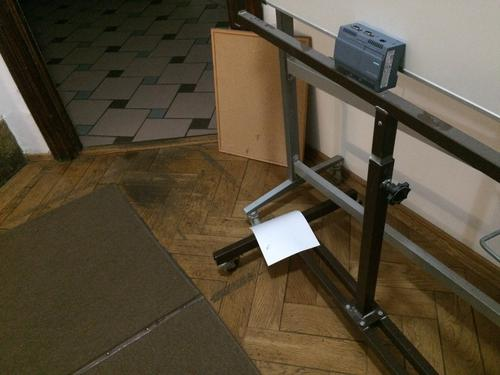iot2000: (333, 23, 407, 95)
